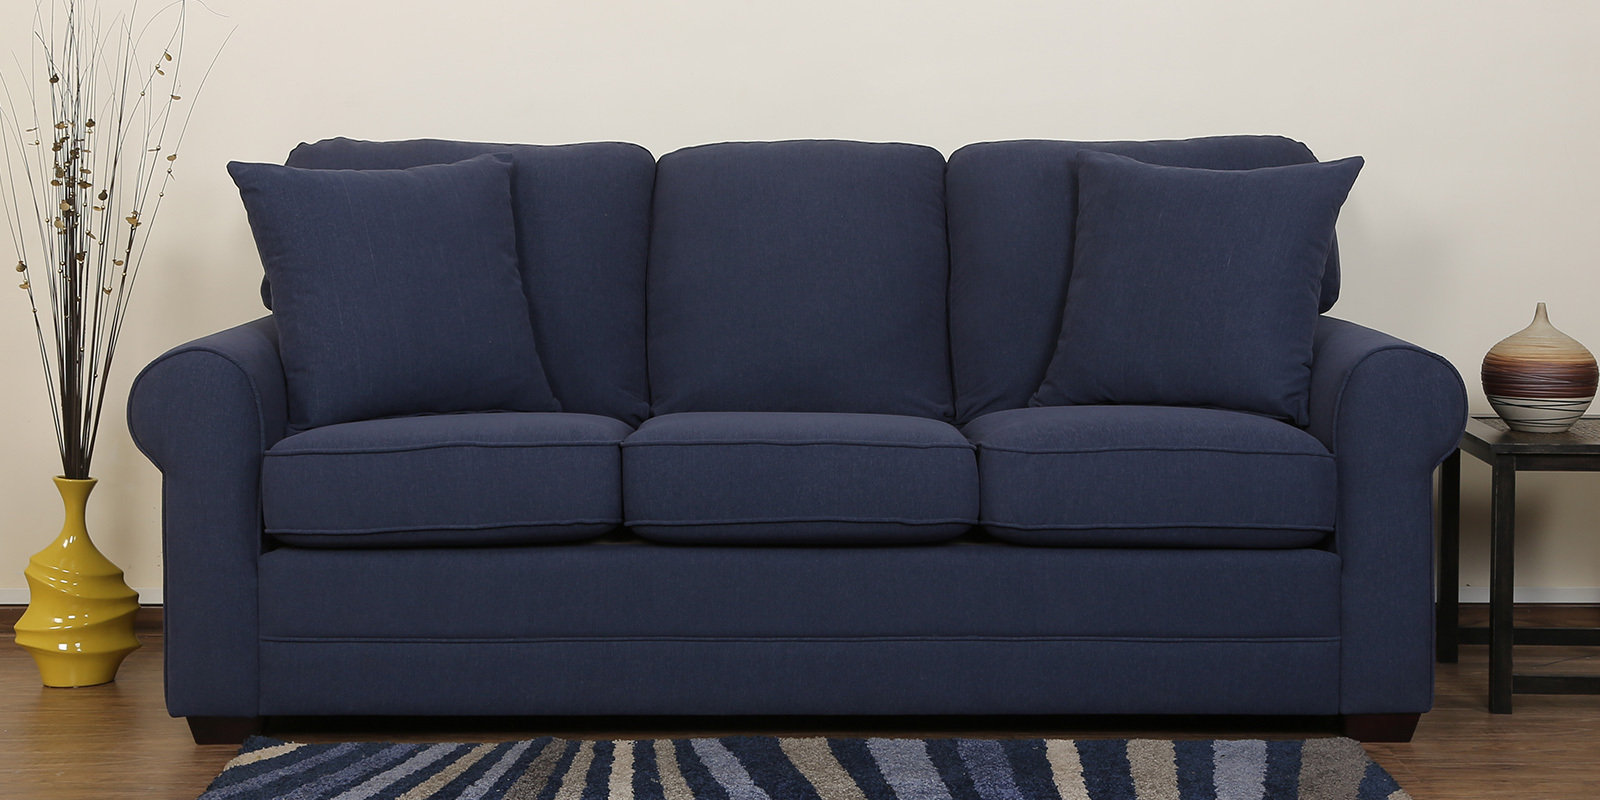Madeira Three Seater Sofa in Navy Blue Colour by CasaCraft: (123, 131, 1470, 747)
